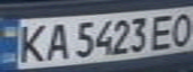2: (112, 16, 136, 55)
3: (127, 15, 154, 53)
4: (93, 17, 115, 56)
5: (72, 18, 96, 58)
A: (42, 20, 72, 61)
E: (148, 11, 178, 51)
K: (12, 20, 51, 64)
O: (166, 9, 193, 47)
